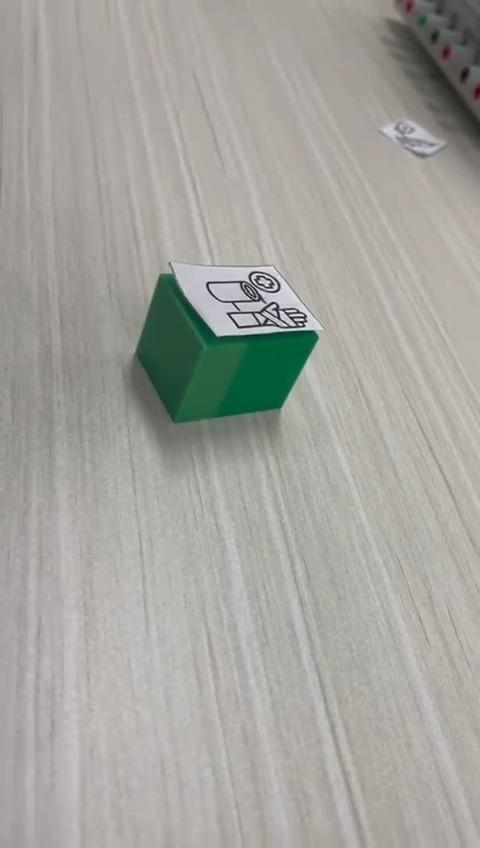Bandages: (137, 260, 324, 425)
